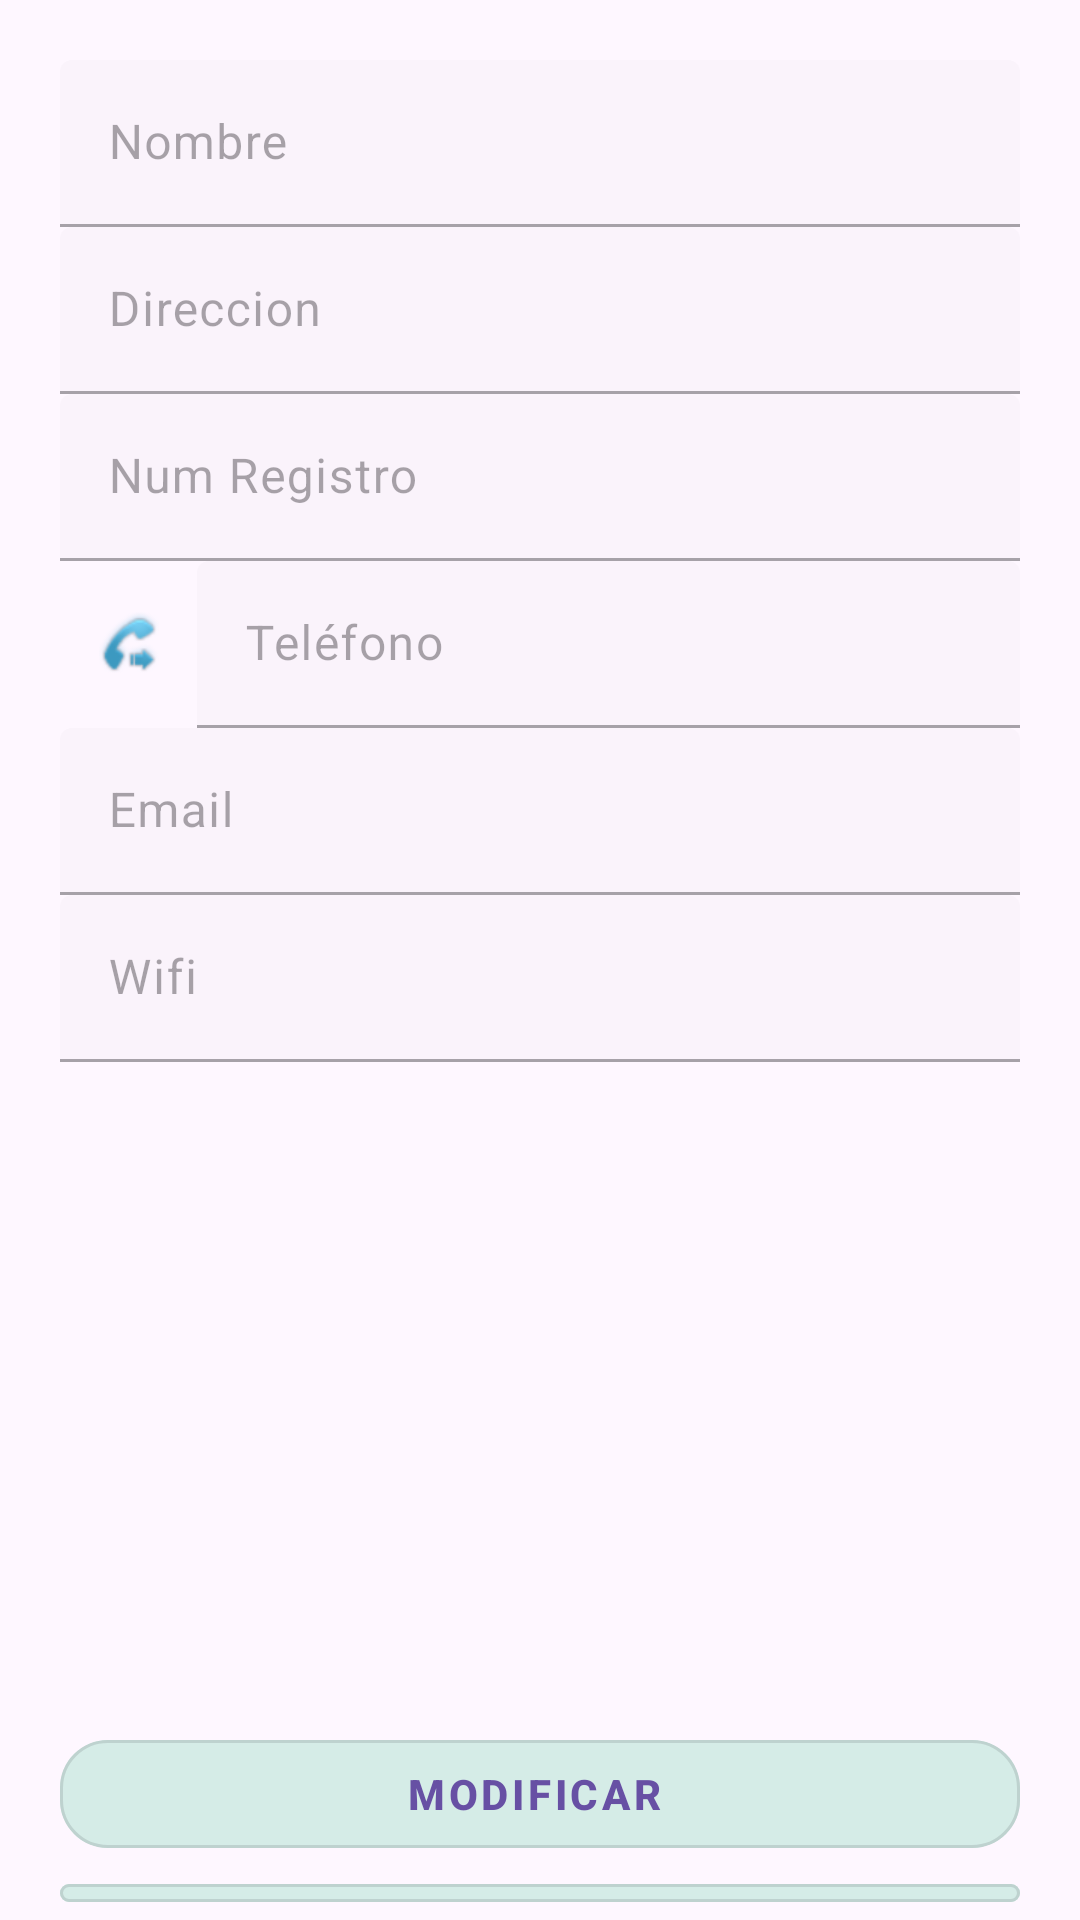

Screen size 1080w x 1920h. Icon name, then its box in pixels as [left=x1, top=y1, right=x2, bottom=y2]:
phone call forward: [left=103, top=616, right=155, bottom=671]
